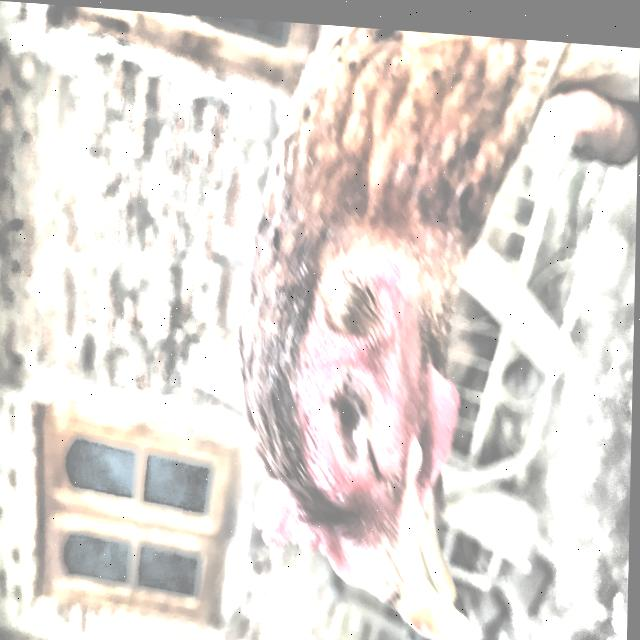Coryza: (212, 13, 640, 640)
